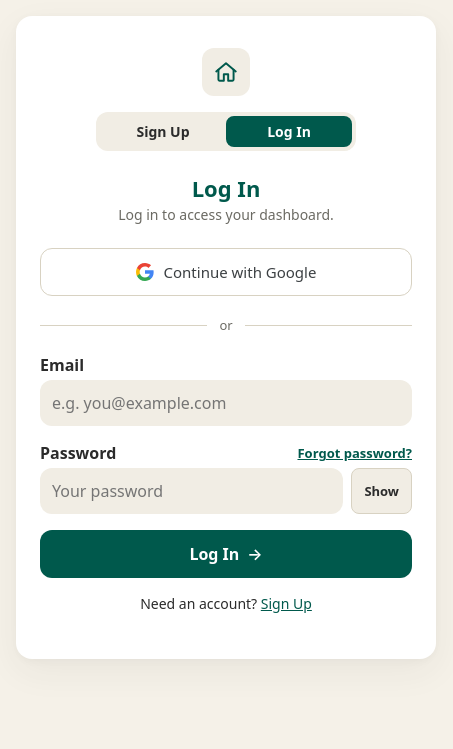
Test: AuthPage — Log In › shows a clear error on incorrect credentials (invalid password case)
Type "driver@example.com" into the field labelled "Email" at (226, 403), box x1=40 y1=380 x2=412 y2=426
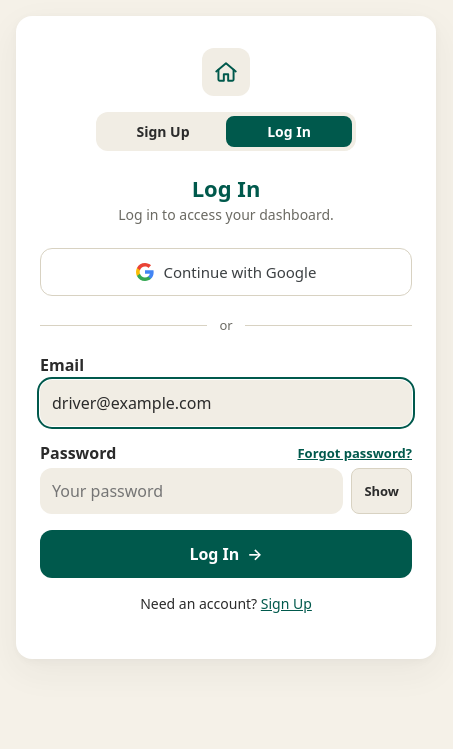
Type "wrong-password" into the password field labelled "Password" at (192, 491), box x1=40 y1=468 x2=343 y2=514
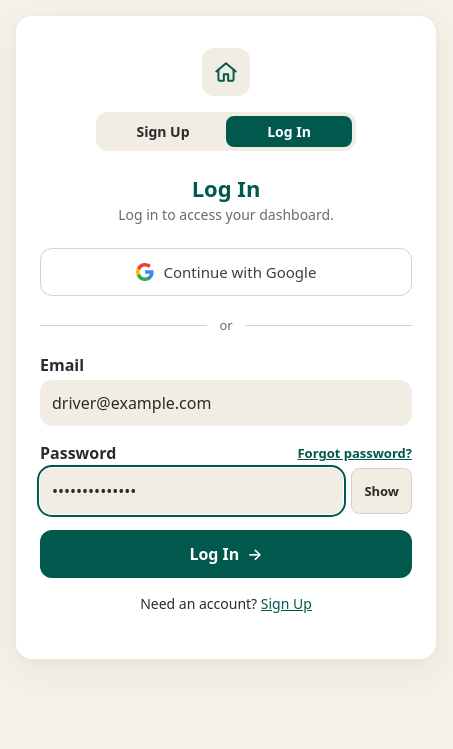
Click the button "Log In →" at (226, 554), box x1=40 y1=530 x2=412 y2=578
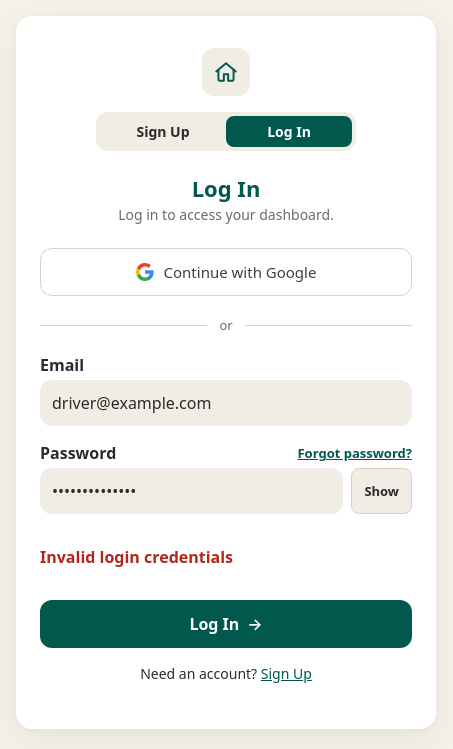
Expected: the message reads "Invalid login credentials", x1=40 y1=546 x2=233 y2=568
